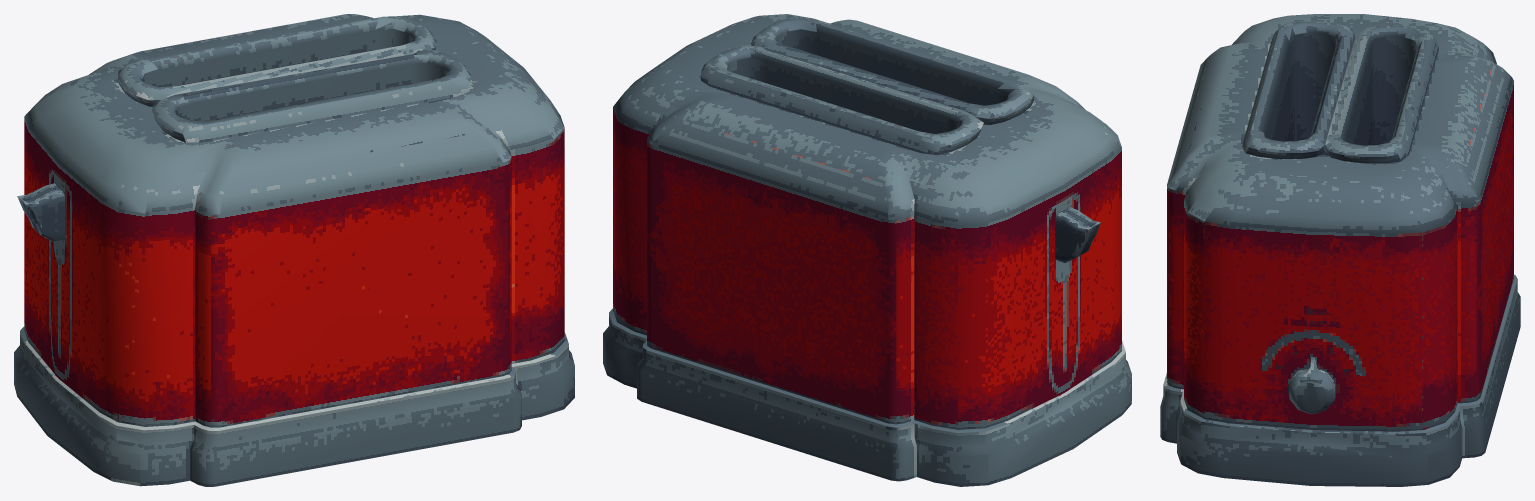
The model's file is toaster_deco.glb.
3 views of the same model, side by side, from view 1: azimuth 30°, elevation 25°; view 2: azimuth 150°, elevation 25°; view 3: azimuth 270°, elevation 25° (orthographic). The views are drawn at different scales.
Visible parts, largest first — view 1: mesh; view 2: mesh; view 3: mesh.
Boxes of the visible parts, x1=… form: mesh: x1=14, y1=14, x2=574, y2=486; mesh: x1=603, y1=14, x2=1131, y2=486; mesh: x1=1160, y1=14, x2=1520, y2=486.
Size of the model in its own units: 0.3226 by 0.2 by 0.2204.
Materials: 1 (1 with a texture image).
